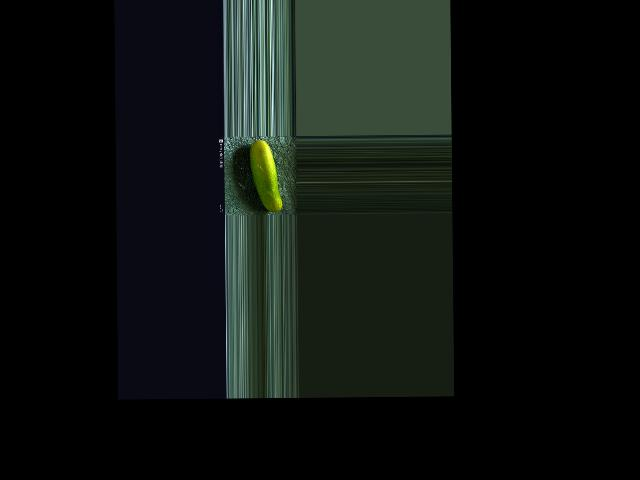cucumber: (249, 140, 282, 213)
